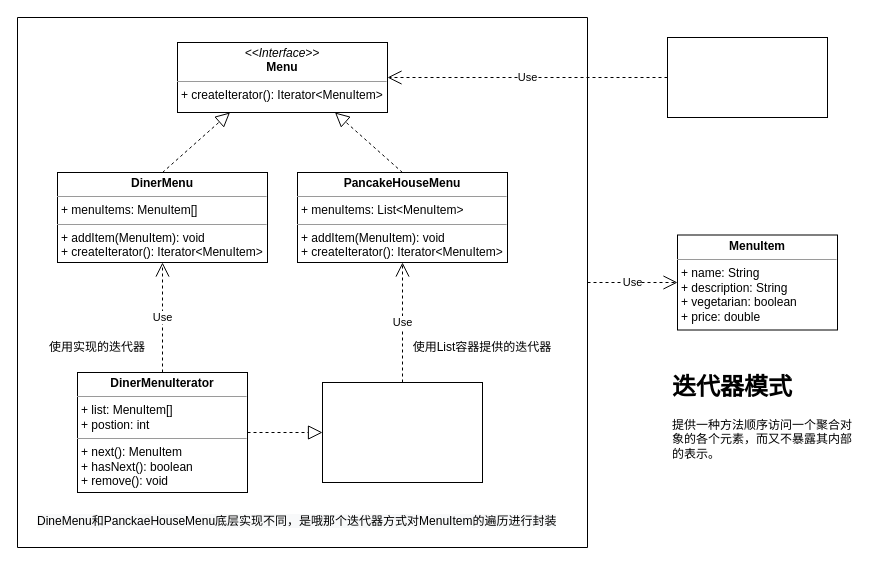
The diagram is 875 pixels wide and 565 high, and some of its shapes have lost their labels. Each missing label, with the centre of its shape:
"<<Interface>> Iterator<E> + hasNext(): boolean + next(): E + remove(): void" goes at point (402, 432).
"Waitress + menus: List<Menu> + printMenu(): void" goes at point (747, 77).
